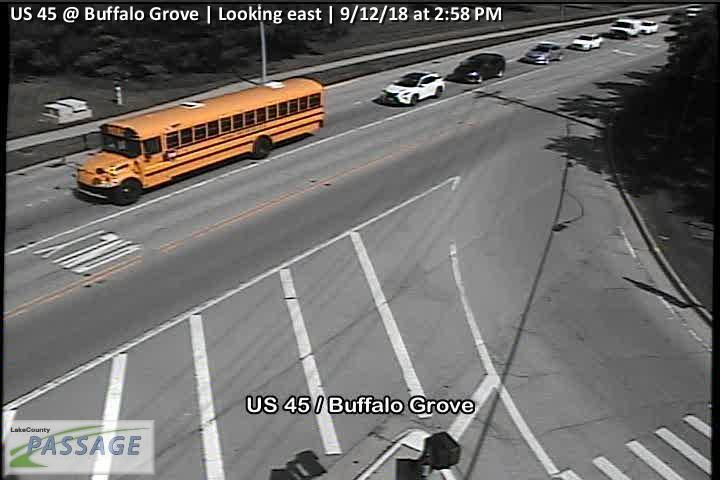Bus: (73, 75, 327, 206)
SUV: (609, 17, 642, 38)
Sedan: (379, 70, 447, 105), (452, 52, 506, 84), (525, 39, 563, 64), (569, 32, 603, 51), (640, 18, 659, 37)
